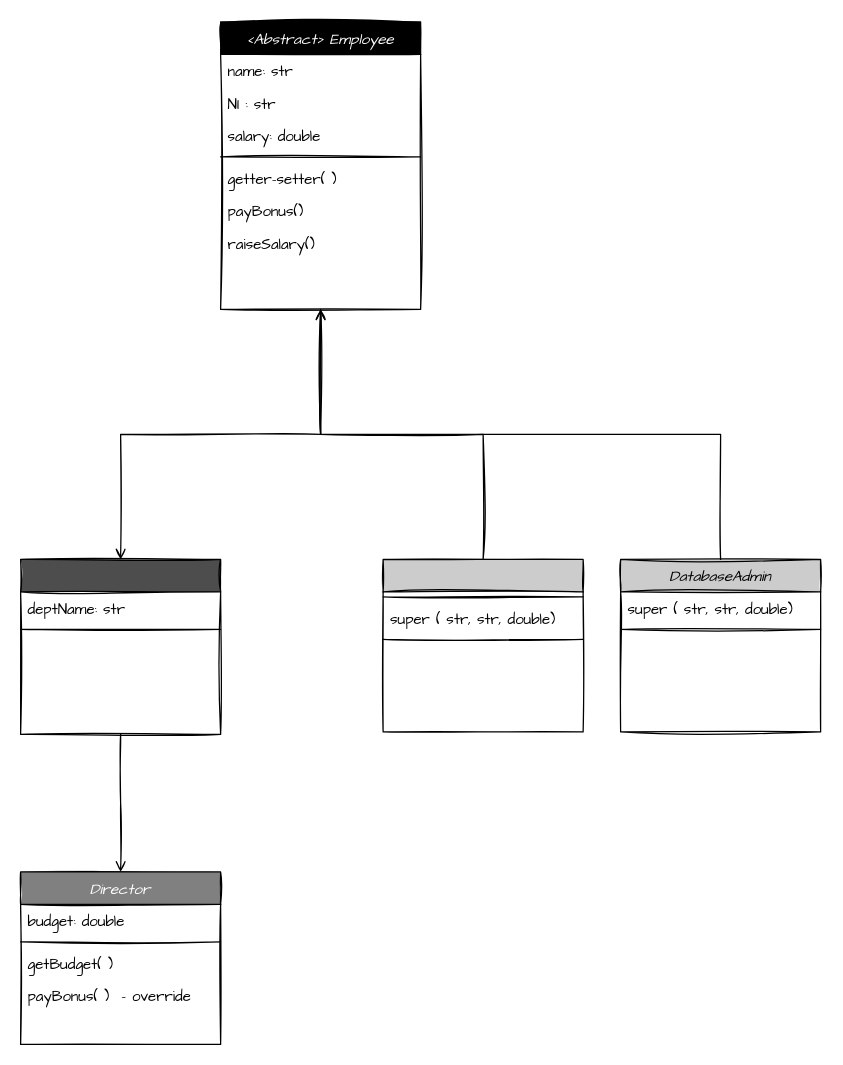
Some shapes in this 843 by 1065 pixel diagram are drawn without their labels. Each missing label, with the box of its shape:
Developer: (382, 558, 583, 732)
Manager: (19, 558, 221, 734)
